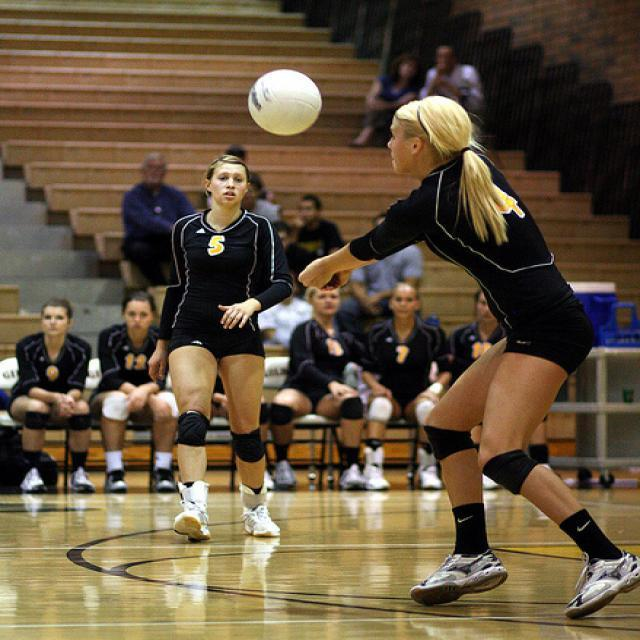volleyball: (247, 68, 321, 134)
